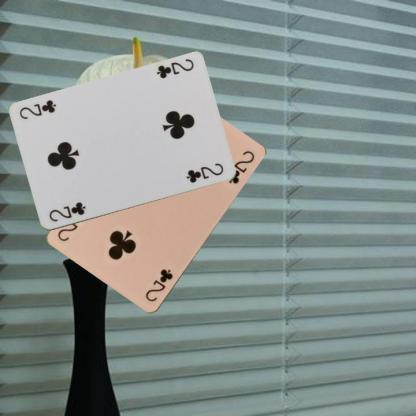2c: (142, 266, 174, 304), (154, 56, 196, 80), (46, 199, 86, 224)
